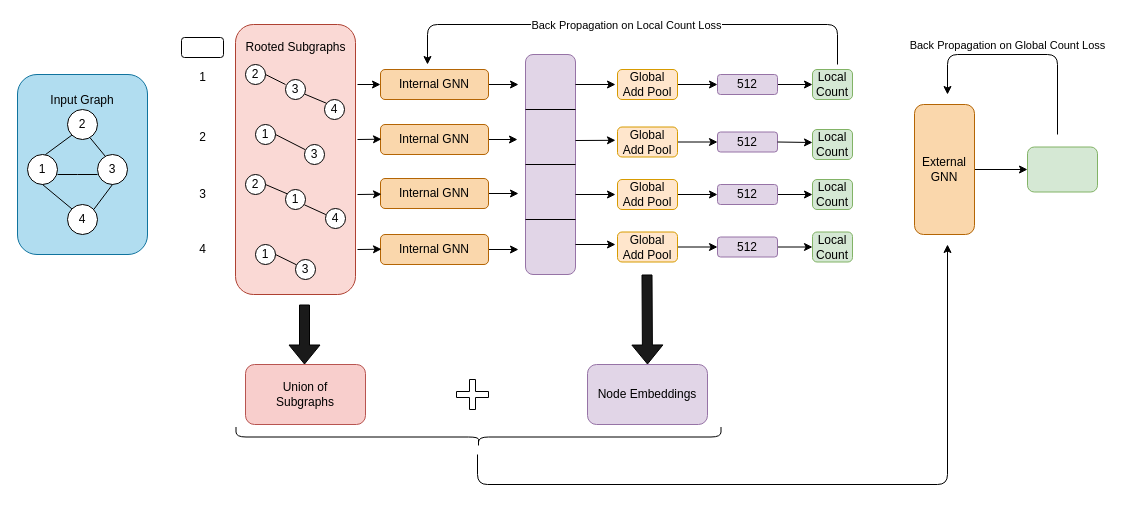
Some shapes in this 1122 by 510 pixel diagram are drawn without their labels. The shapes that lost their labels are listed below. From the top down, each one's centre as x and y in pixels, then its label:
(202,47): Root
(550,164): Emb 1 3 x 512 Emb 2 2 x 512 Emb 3 3 x 512 Emb 4 2 x 512
(1062,169): Global Count
